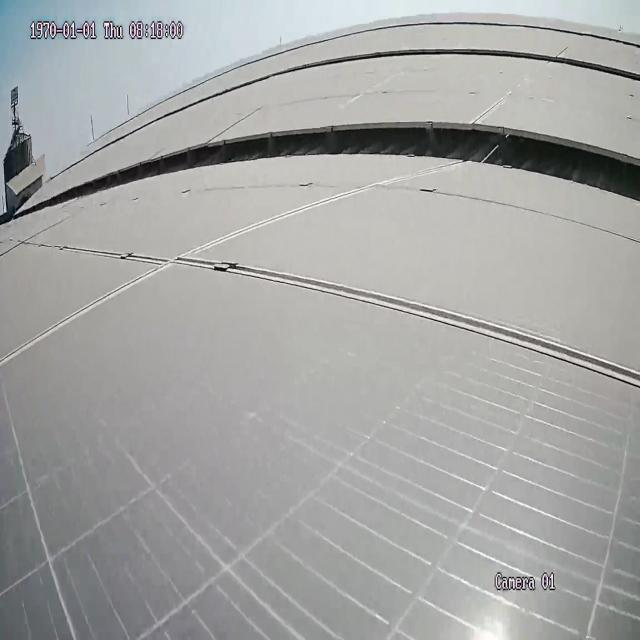interior panel: (3, 165, 639, 394)
outher panel: (24, 125, 640, 219)
